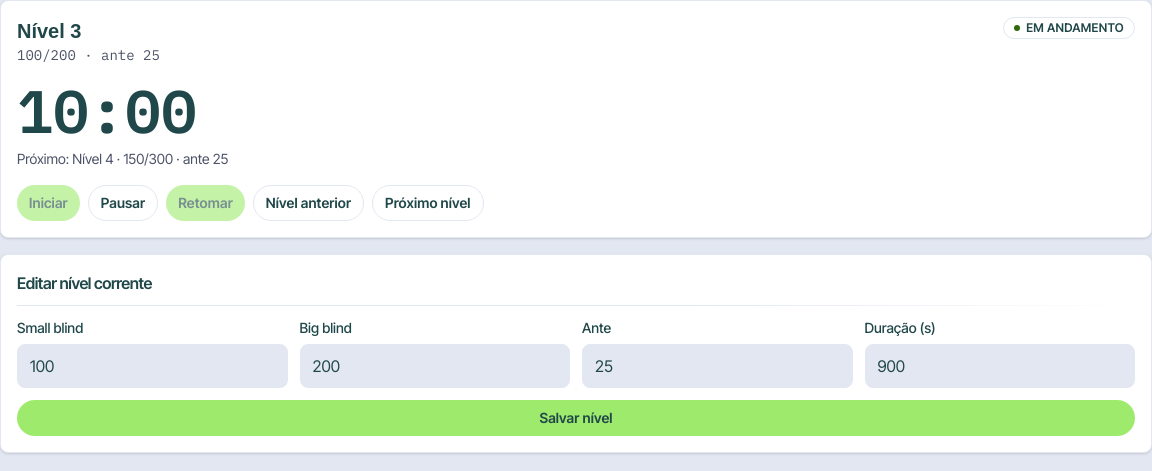
Test case: ClockControl › aplica a resposta do POST na tela (cache + invalidação)
Expected: the text "Em andamento" is shown, [1003,17,1135,39]
Click the button "Pausar". click: (123, 203)
box: [88,185,158,221]
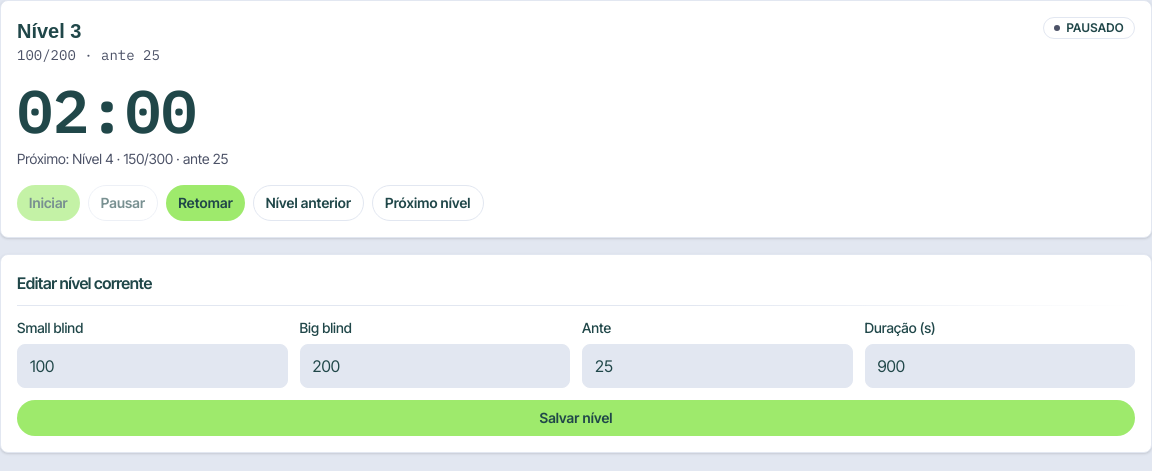
Expected: the text "Pausado" is shown, [1044,17,1135,39]
Expected: the text "02:00" is shown, [17,71,197,150]
